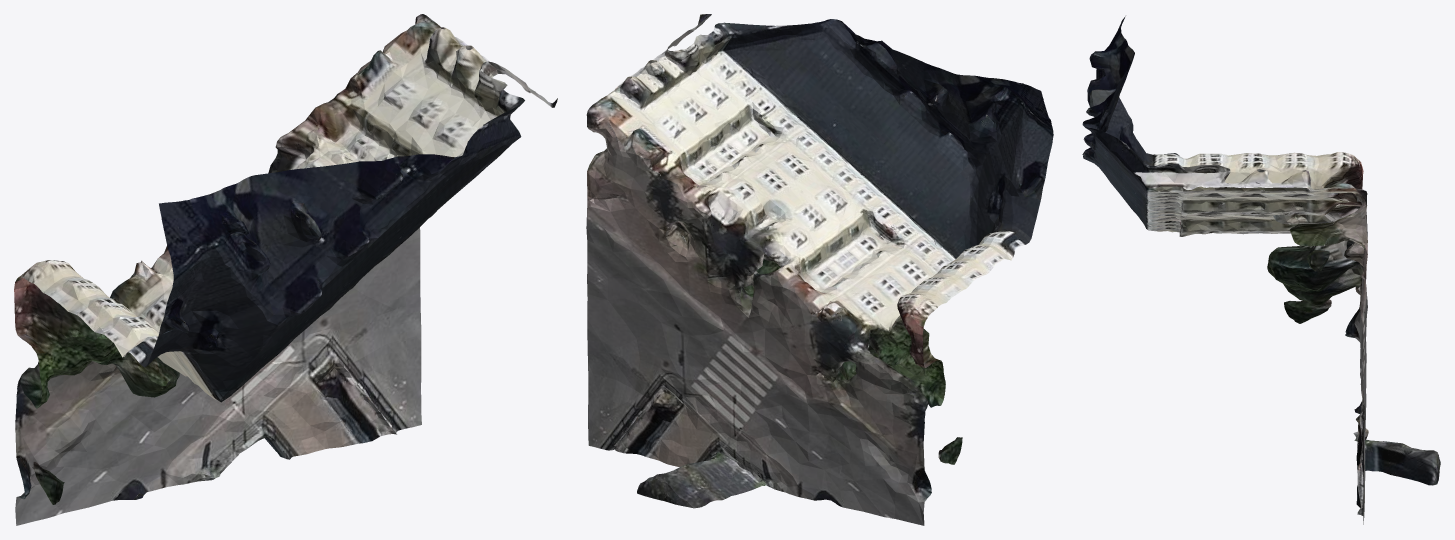
Rendered from Tile_+031_+021_L21_00003100.obj.
The picture shows the model from 3 angles, left to right: view 1: azimuth 30°, elevation 25°; view 2: azimuth 150°, elevation 25°; view 3: azimuth 270°, elevation 25°; orthographic projection. The views are drawn at different scales.
Size of the model in its own units: 31.38 by 31.38 by 29.17.
1 material, 1 textured.
